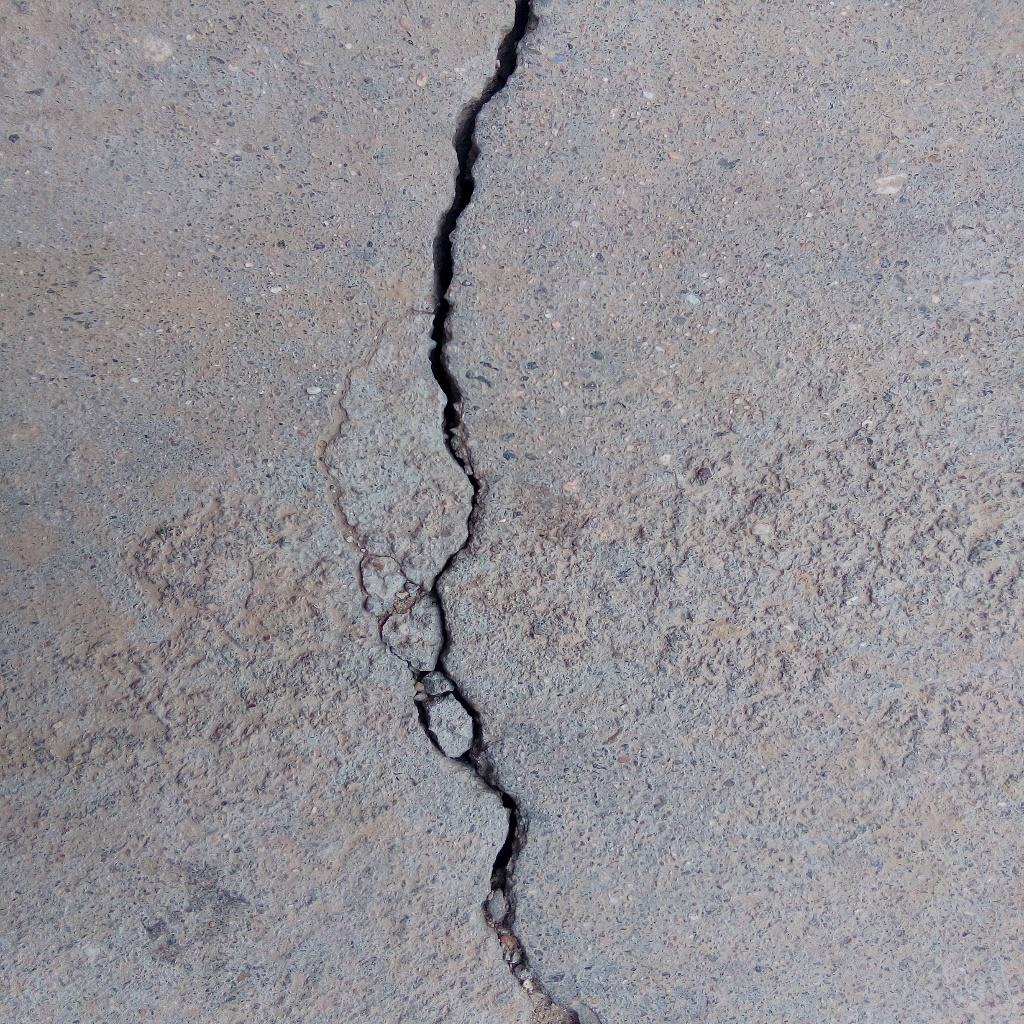Crack: (413, 1, 582, 1024)
